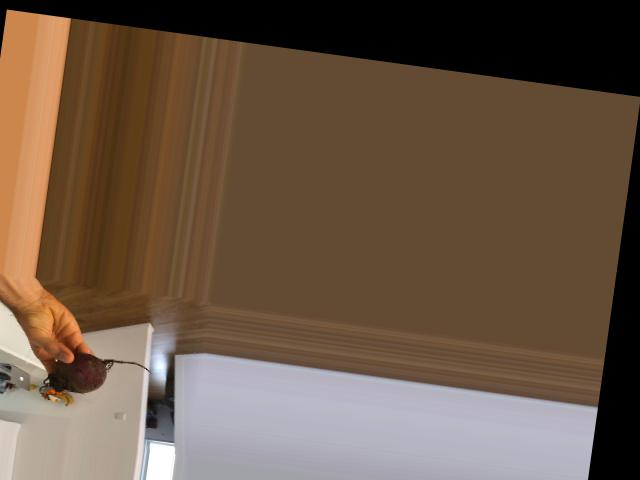beet: (43, 348, 153, 403)
